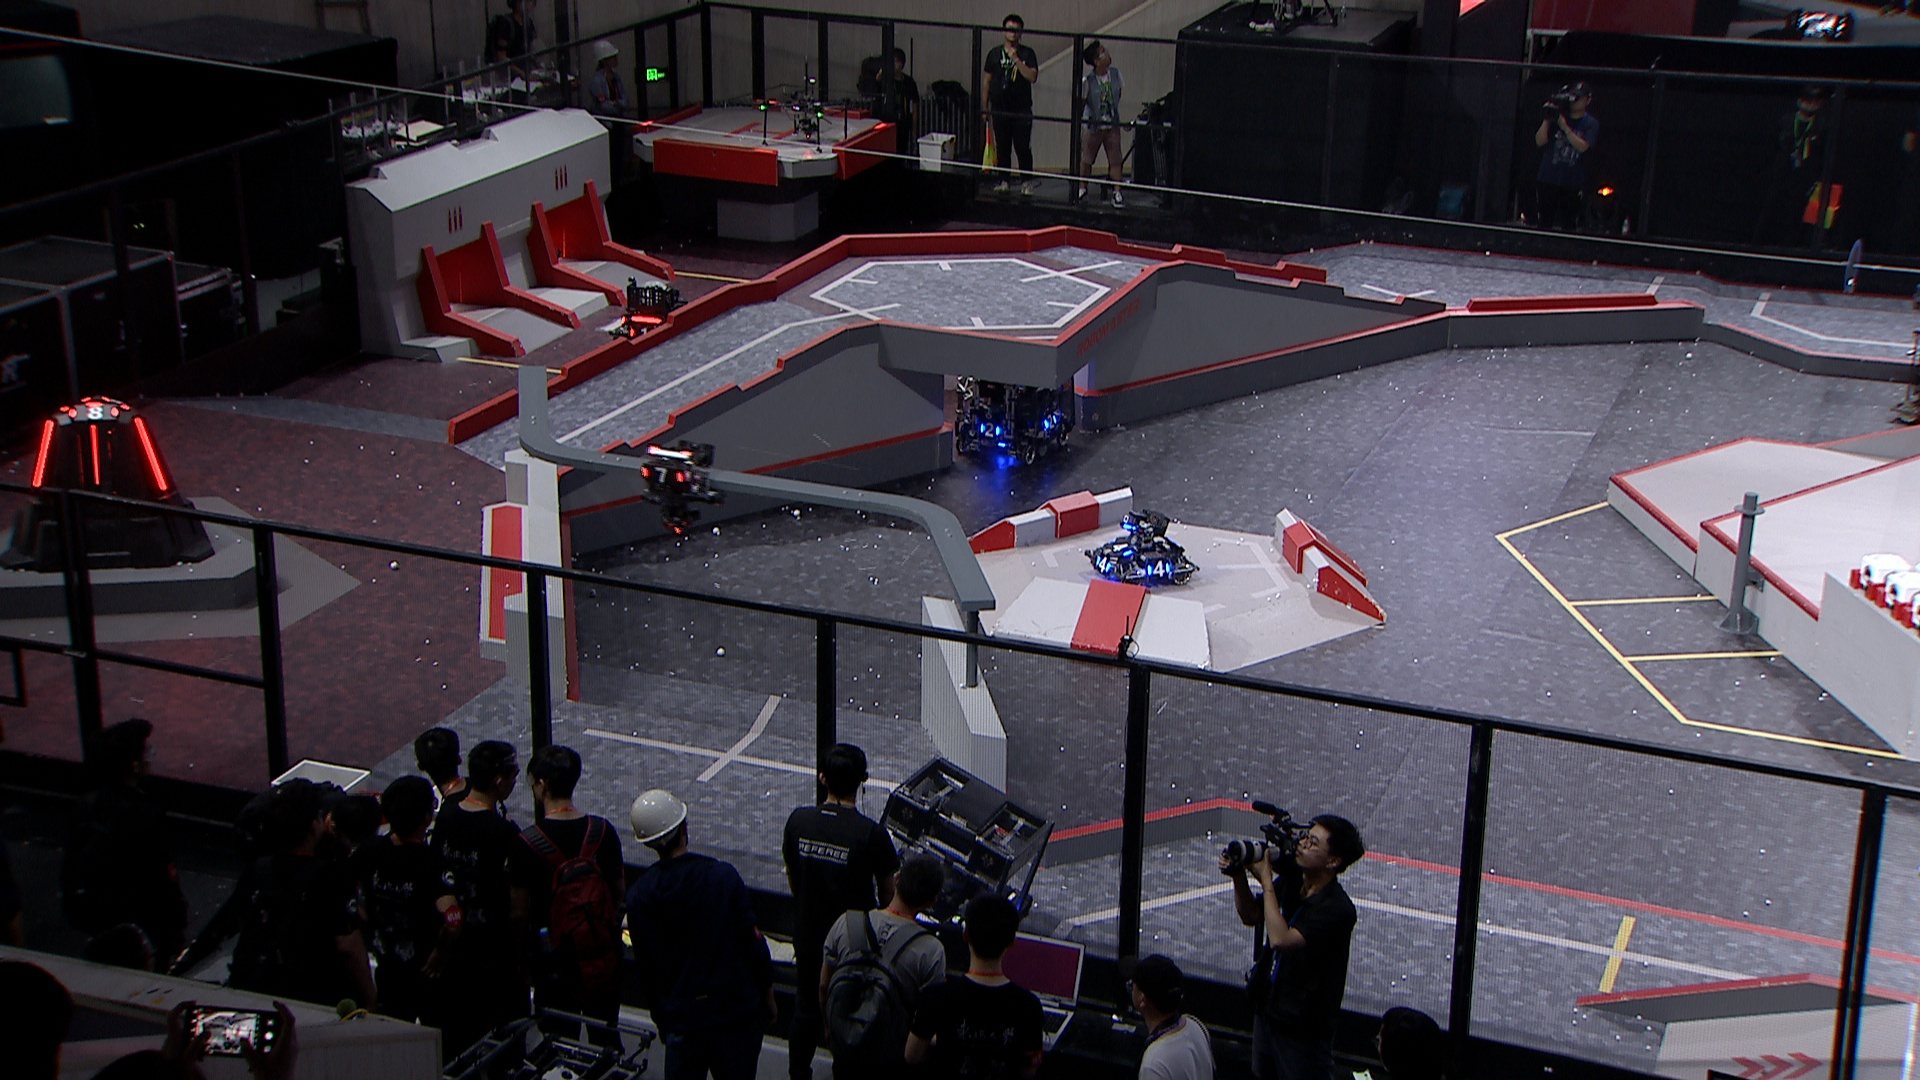armor: (131, 413, 167, 495), (29, 418, 57, 488), (86, 419, 102, 488), (638, 465, 680, 485), (67, 405, 115, 419), (1147, 560, 1172, 575), (1106, 541, 1130, 555), (978, 423, 1000, 439), (1093, 556, 1112, 572), (1044, 413, 1060, 429), (629, 324, 647, 338)
car: (858, 756, 1054, 960), (948, 342, 1084, 469), (1087, 506, 1200, 588), (609, 272, 698, 353), (1898, 314, 1920, 429)
watcher: (629, 436, 721, 543)
